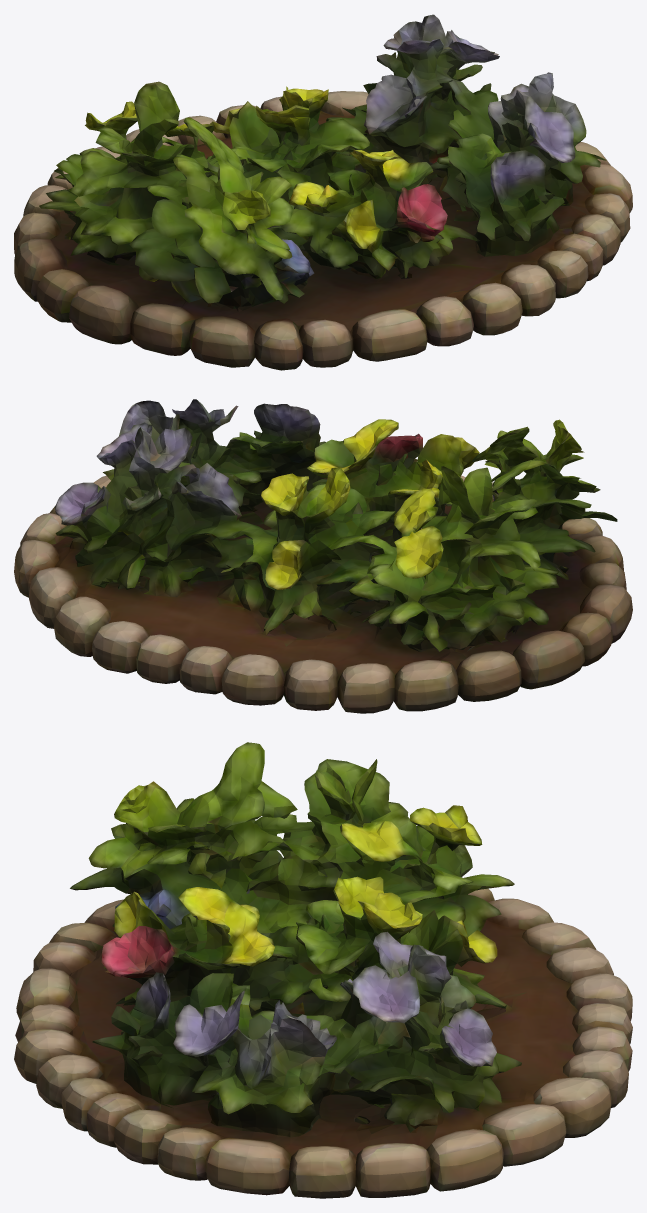
The model's file is flower garden.glb.
3 renders of one model, top to bottom at view 1: azimuth 30°, elevation 25°; view 2: azimuth 150°, elevation 25°; view 3: azimuth 270°, elevation 25°, orthographic. The views are drawn at different scales.
Parts seen in each view (by area): view 1: world; view 2: world; view 3: world.
Part boxes in pixels (x1,y1,x2,y2): world: [14, 14, 632, 370]; world: [14, 399, 632, 713]; world: [14, 742, 632, 1198].
Bounding box in the file's own units: 0.999 × 0.3283 × 0.849.
1 material, 1 textured.
